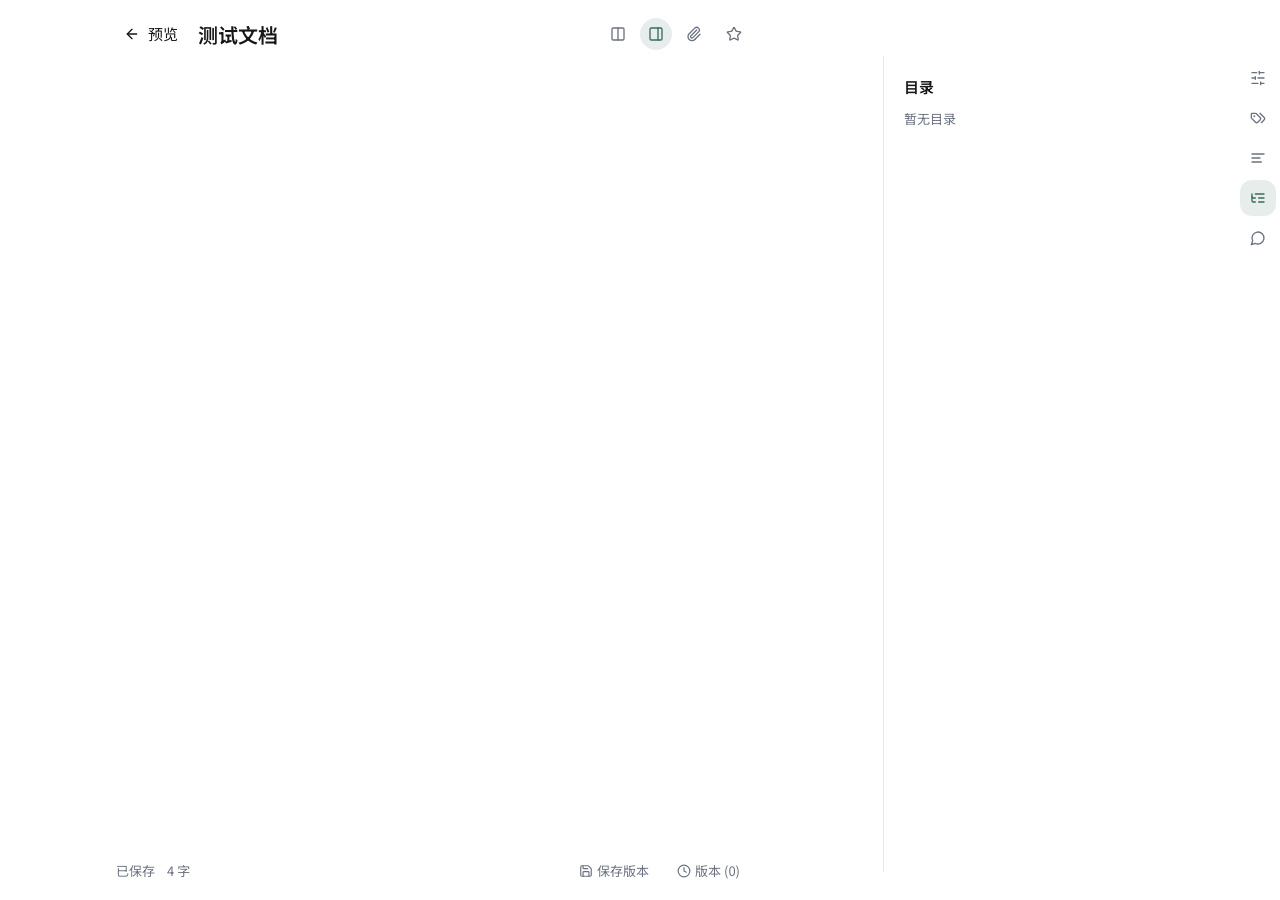
Test: DocumentEditorPage › loads summary from selectedItem
This screenshot has width=1280, height=900.
Click the tab with test id "editor-sidebar-tab-summary".
click(1258, 158)  # box [1240, 140, 1276, 176]
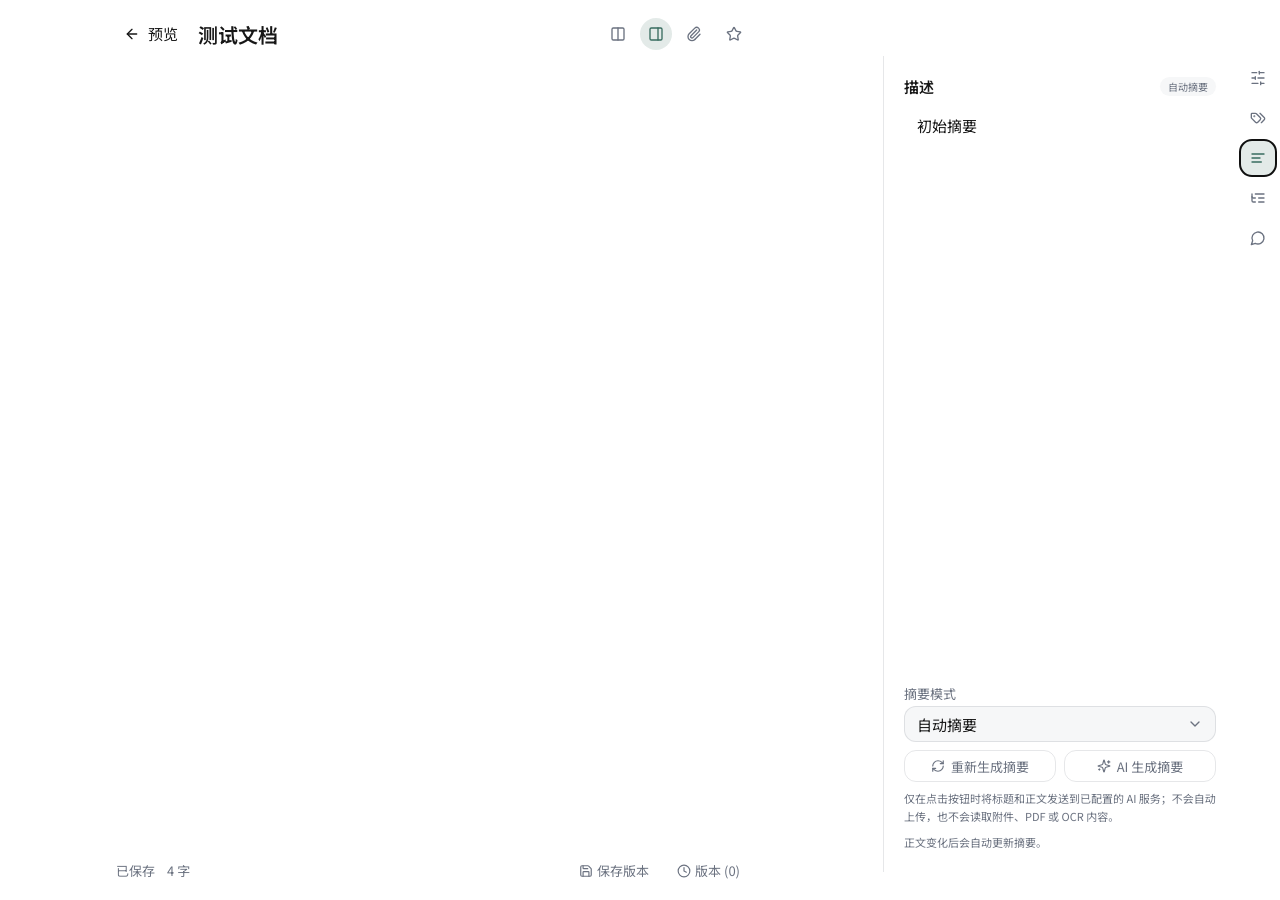
Result: the text box with placeholder "摘要" holds "初始摘要" at [904, 106, 1216, 677]
